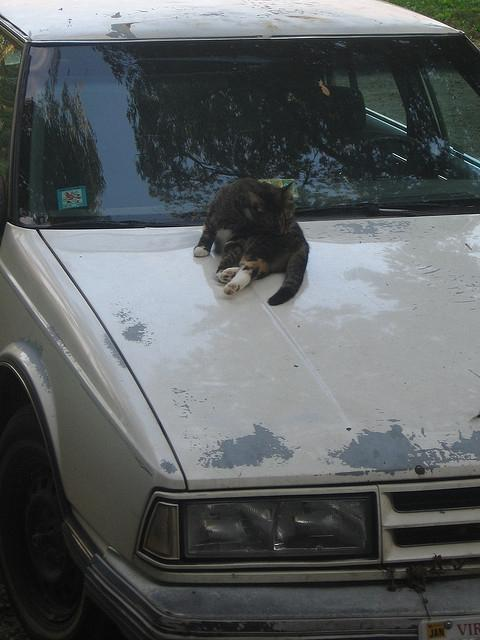car: (1, 1, 480, 633)
